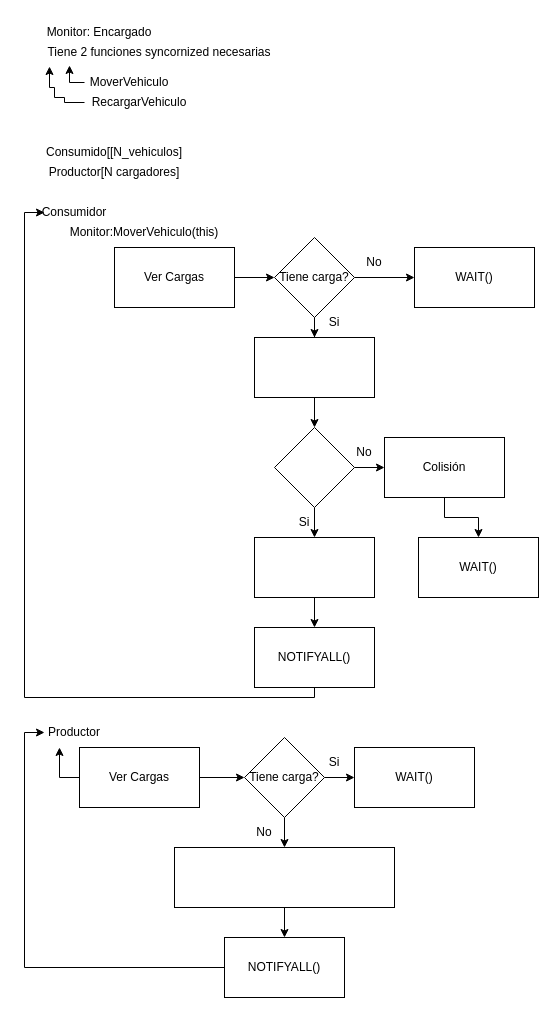
This 556x1015 diagram has some shape labels left out. The shapes that lost their labels are listed below. From the top down, each one's centre as x and y in pixels, then its label:
At [314,367]: "Intento_de_mover".
At [314,467]: "Se mueve?".
At [314,567]: "Mueve Vehiculo/Cambia tablero/Resta carga".
At [284,877]: "Monitor:RecargarVehiculo(vehiculo)".
